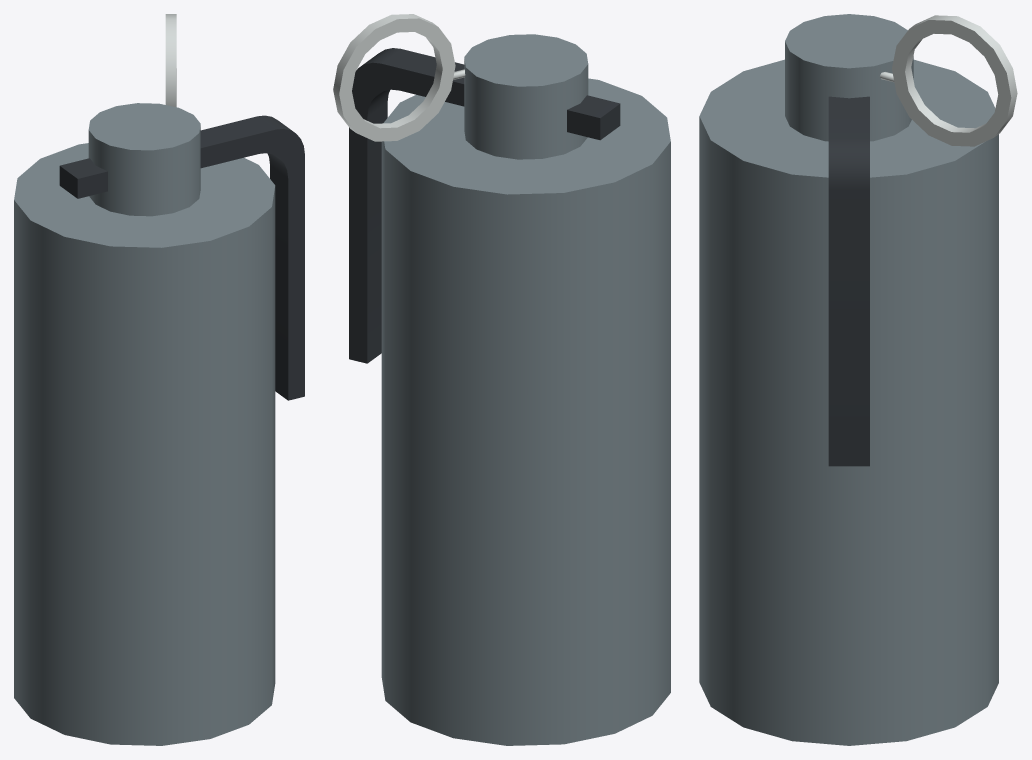
File: Granade 1.fbx
3 renders of one model, left to right at view 1: azimuth 30°, elevation 25°; view 2: azimuth 150°, elevation 25°; view 3: azimuth 270°, elevation 25°, orthographic. The views are drawn at different scales.
Visible parts, largest first — view 1: Granade 1; view 2: Granade 1; view 3: Granade 1.
Part boxes in pixels (box(x1,y1,x2,y2)): Granade 1: box(14, 14, 304, 745); Granade 1: box(333, 14, 670, 745); Granade 1: box(699, 14, 1017, 745).
Bounding box in the file's own units: 0.2019 × 0.4506 × 0.1844.
